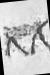F26: (1, 0, 50, 74)
